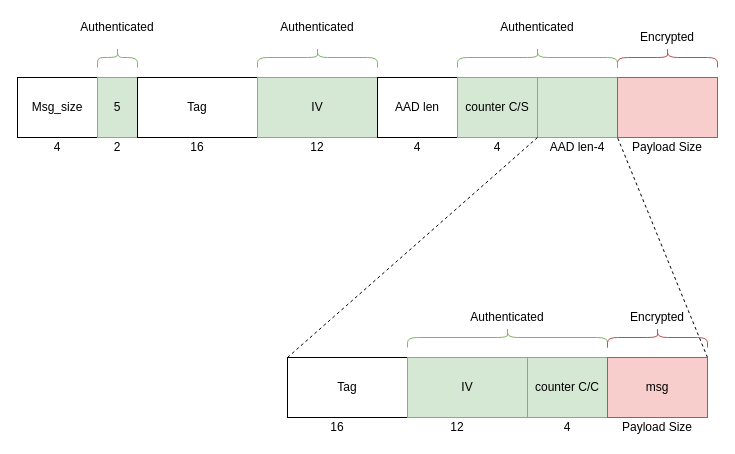
Some shapes in this 735 by 454 pixel diagram are drawn without their labels. Each missing label, with the centre of its shape:
msg (AAD): pixel 577 107
User Sender/Recipient: pixel 667 107
